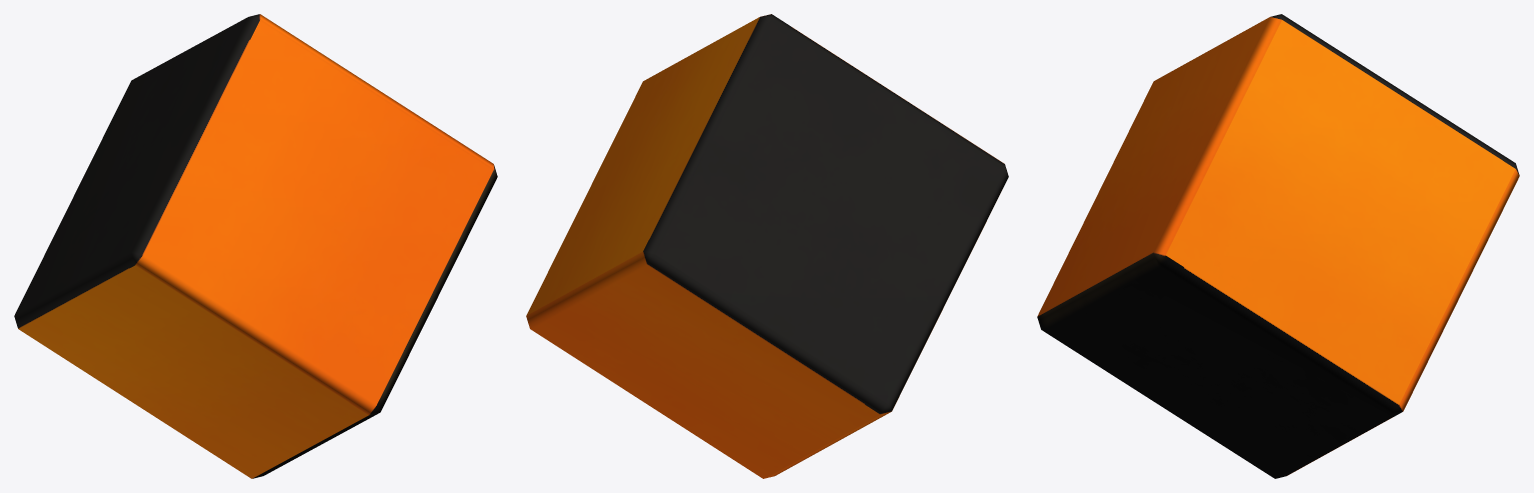
File: SM_OrangeCube_special.glb
3 renders of one model, left to right at view 1: azimuth 30°, elevation 25°; view 2: azimuth 150°, elevation 25°; view 3: azimuth 270°, elevation 25°, orthographic.
Parts seen in each view (by area): view 1: SM_OrangeCube_special; view 2: SM_OrangeCube_special; view 3: SM_OrangeCube_special.
Part boxes in pixels (x1,y1,x2,y2): SM_OrangeCube_special: (14, 14, 497, 478); SM_OrangeCube_special: (526, 14, 1008, 478); SM_OrangeCube_special: (1037, 14, 1519, 478).
Size of the model in its own units: 1.37 by 1.66 by 1.58.
Materials: 1 (1 with a texture image).
